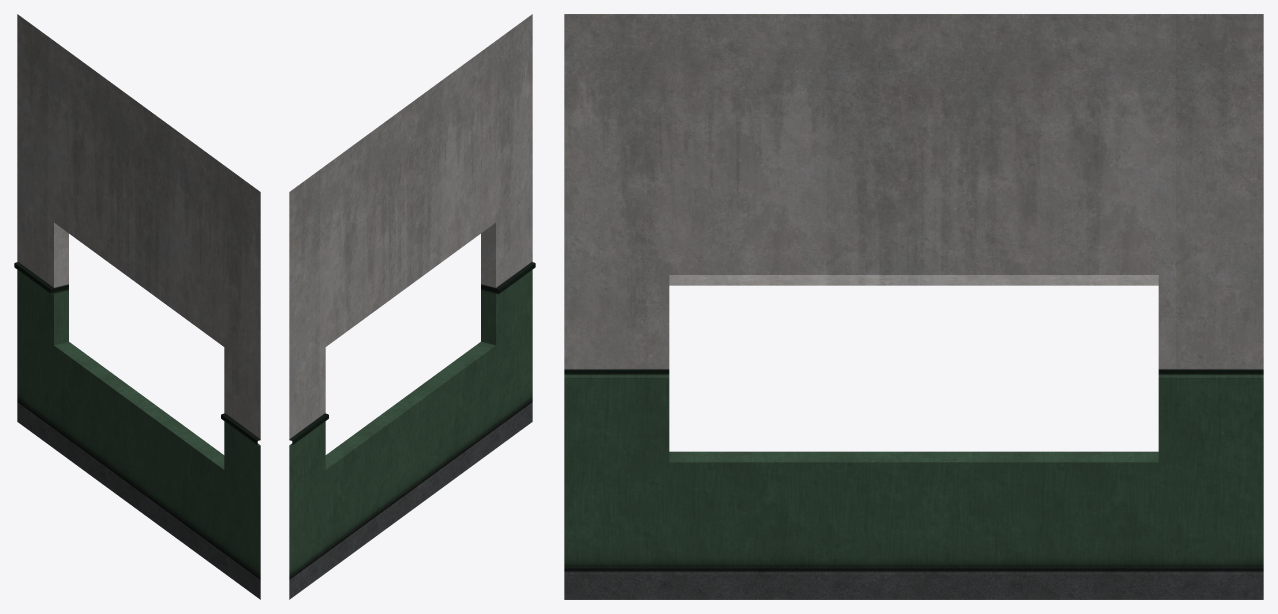
The model's file is Psychiatric_Ward_Infirmary_Wall_4m_Window.glb.
The picture shows the model from 3 angles, left to right: view 1: azimuth 30°, elevation 25°; view 2: azimuth 150°, elevation 25°; view 3: azimuth 270°, elevation 25°; orthographic projection. The views are drawn at different scales.
Parts seen in each view (by area): view 1: Psychiatric_Ward_Infirmary_Wall_4m_Window; view 2: Psychiatric_Ward_Infirmary_Wall_4m_Window; view 3: Psychiatric_Ward_Infirmary_Wall_4m_Window.
Part boxes in pixels (box(x1,y1,x2,y2)): Psychiatric_Ward_Infirmary_Wall_4m_Window: box(14, 14, 260, 599); Psychiatric_Ward_Infirmary_Wall_4m_Window: box(289, 14, 535, 599); Psychiatric_Ward_Infirmary_Wall_4m_Window: box(564, 14, 1263, 599).
Bounding box in the file's own units: 0.1737 × 3.7 × 4.
Materials: 1 (1 with a texture image).
